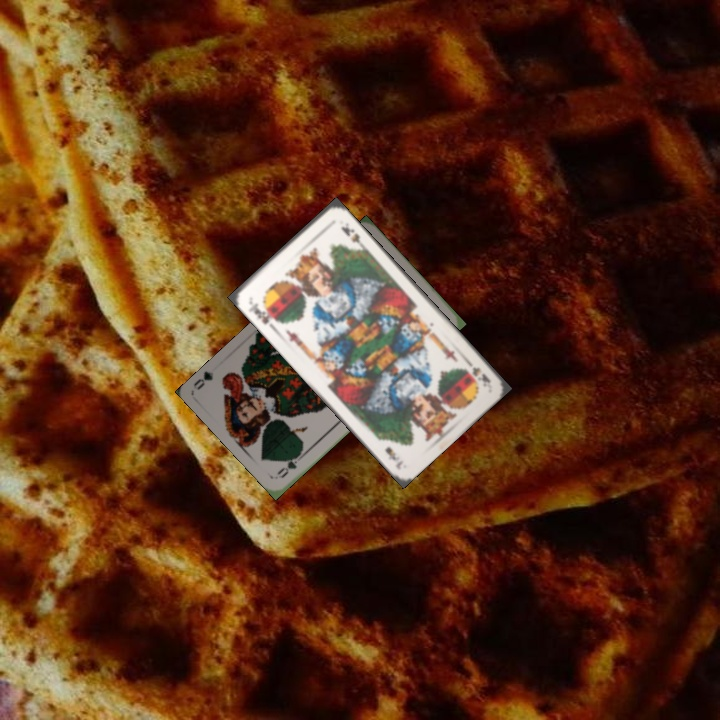GO: (273, 447, 308, 481)
SK: (244, 295, 280, 327), (468, 363, 493, 390)
